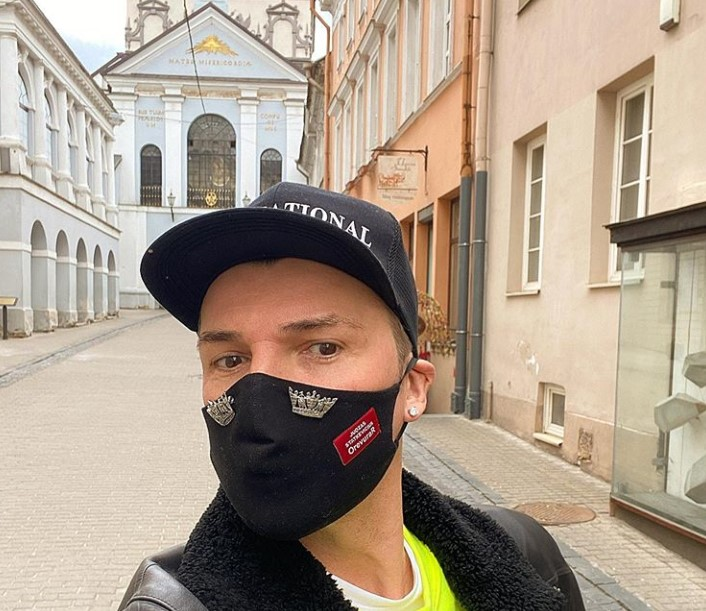face_with_mask: (151, 196, 433, 542)
